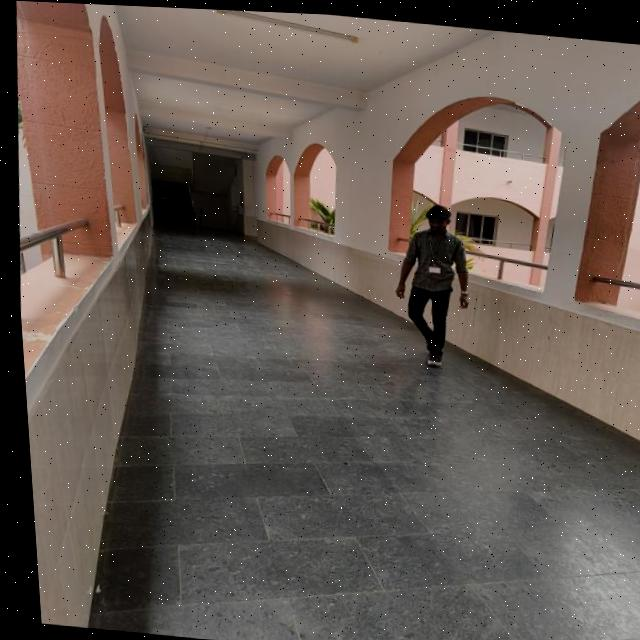id_card: (412, 226, 442, 267)
